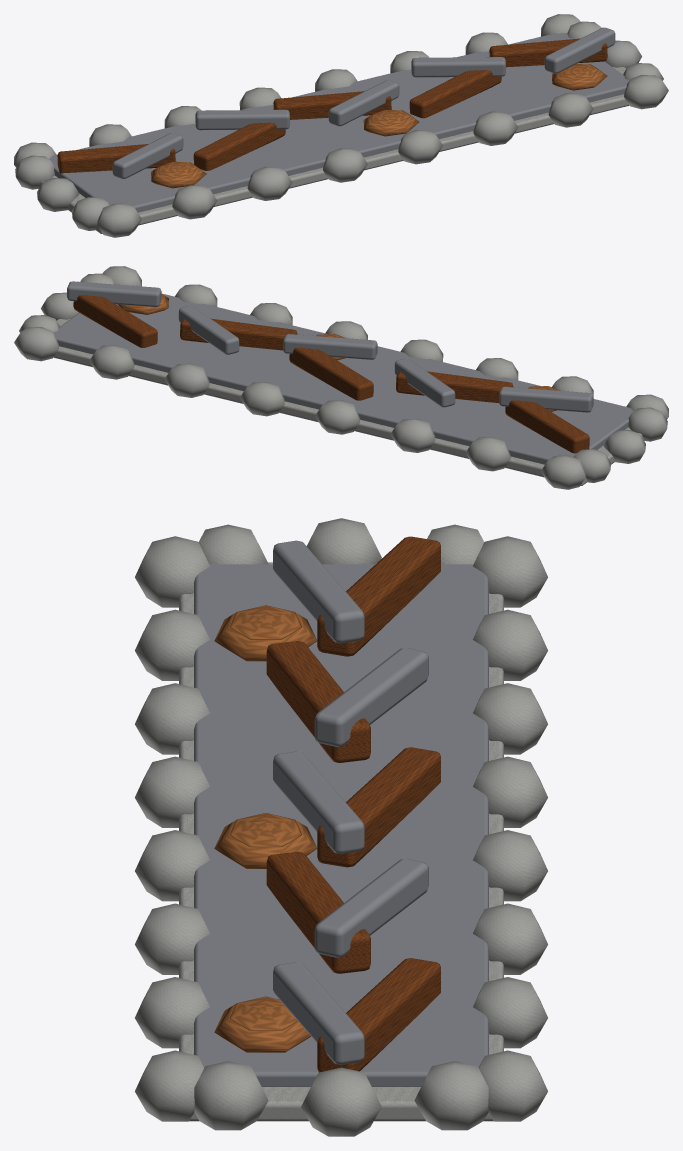
The model's file is viking-age-longhouse-and-longship-longhouse-long-heart-48afa868__30174.glb.
The picture shows the model from 3 angles, top to bottom: view 1: azimuth 30°, elevation 25°; view 2: azimuth 150°, elevation 25°; view 3: azimuth 270°, elevation 25°; orthographic projection. The views are drawn at different scales.
Parts seen in each view (by area): view 1: longhouse-long-hearth; view 2: longhouse-long-hearth; view 3: longhouse-long-hearth.
Boxes of the visible parts, <box> form: longhouse-long-hearth: <box>14,14,668,237</box>; longhouse-long-hearth: <box>14,266,668,489</box>; longhouse-long-hearth: <box>135,518,547,1136</box>.
Size of the model in its own units: 3.67 by 0.2649 by 1.09.
4 materials, 3 textured.
